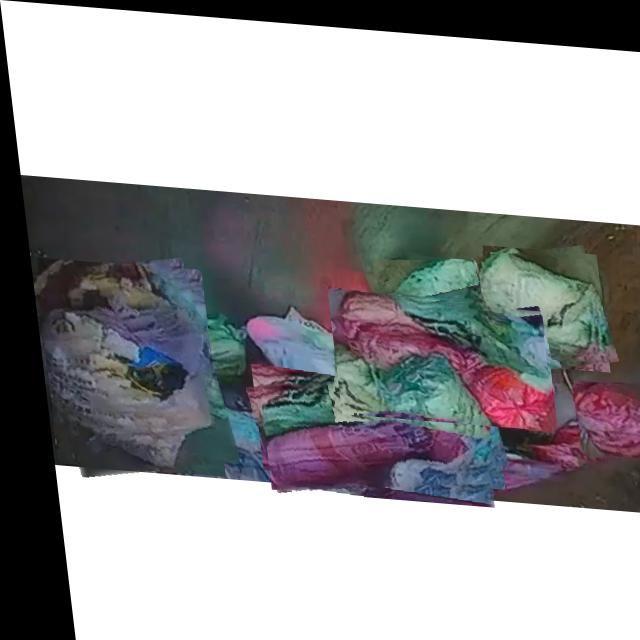general_trashbag: (474, 245, 591, 353), (376, 251, 482, 356), (348, 356, 483, 423)
other_trashbag: (33, 261, 201, 466), (325, 287, 543, 421), (256, 367, 481, 487), (566, 377, 640, 447)
